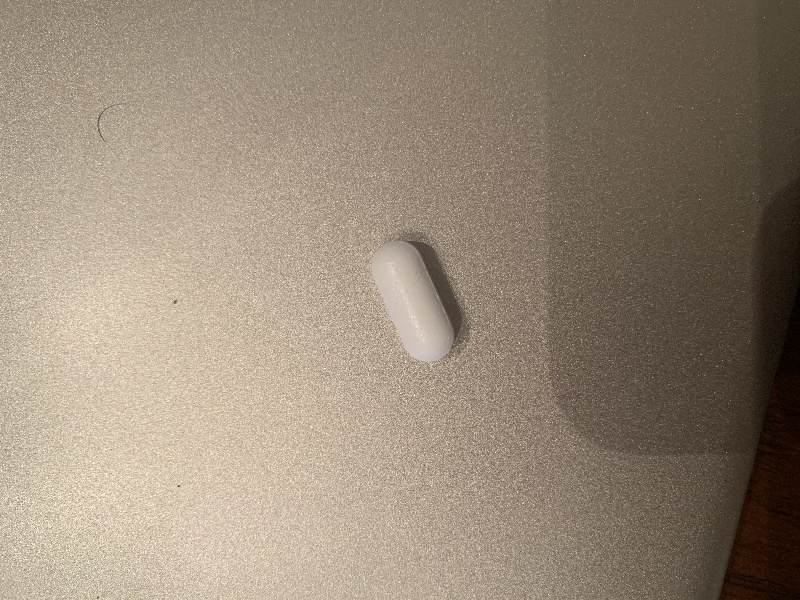Tylenol: (364, 235, 472, 372)
